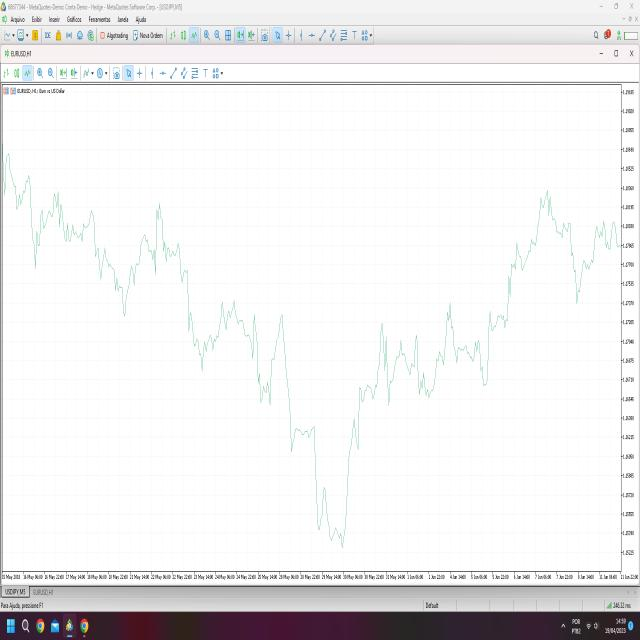bandeira_alta: (485, 306, 509, 394)
bandeira_baixa: (277, 304, 314, 462)
oco: (128, 197, 192, 319)
